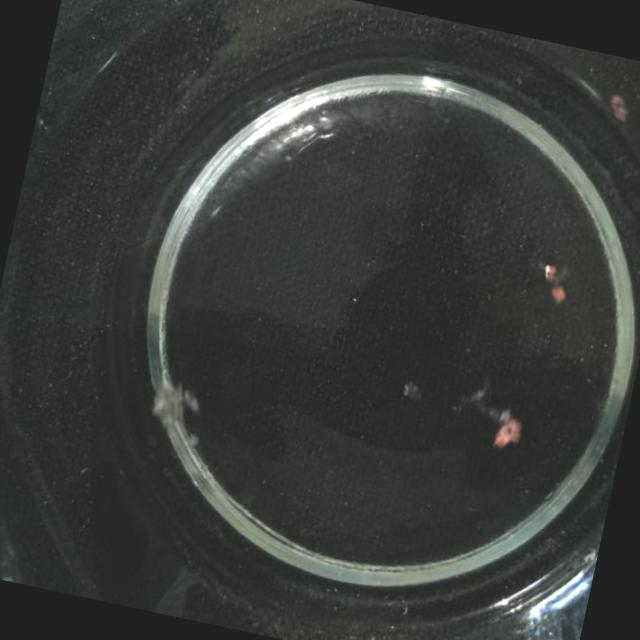fiber: (135, 368, 210, 446), (524, 255, 574, 310), (483, 403, 522, 455), (605, 88, 634, 127)
